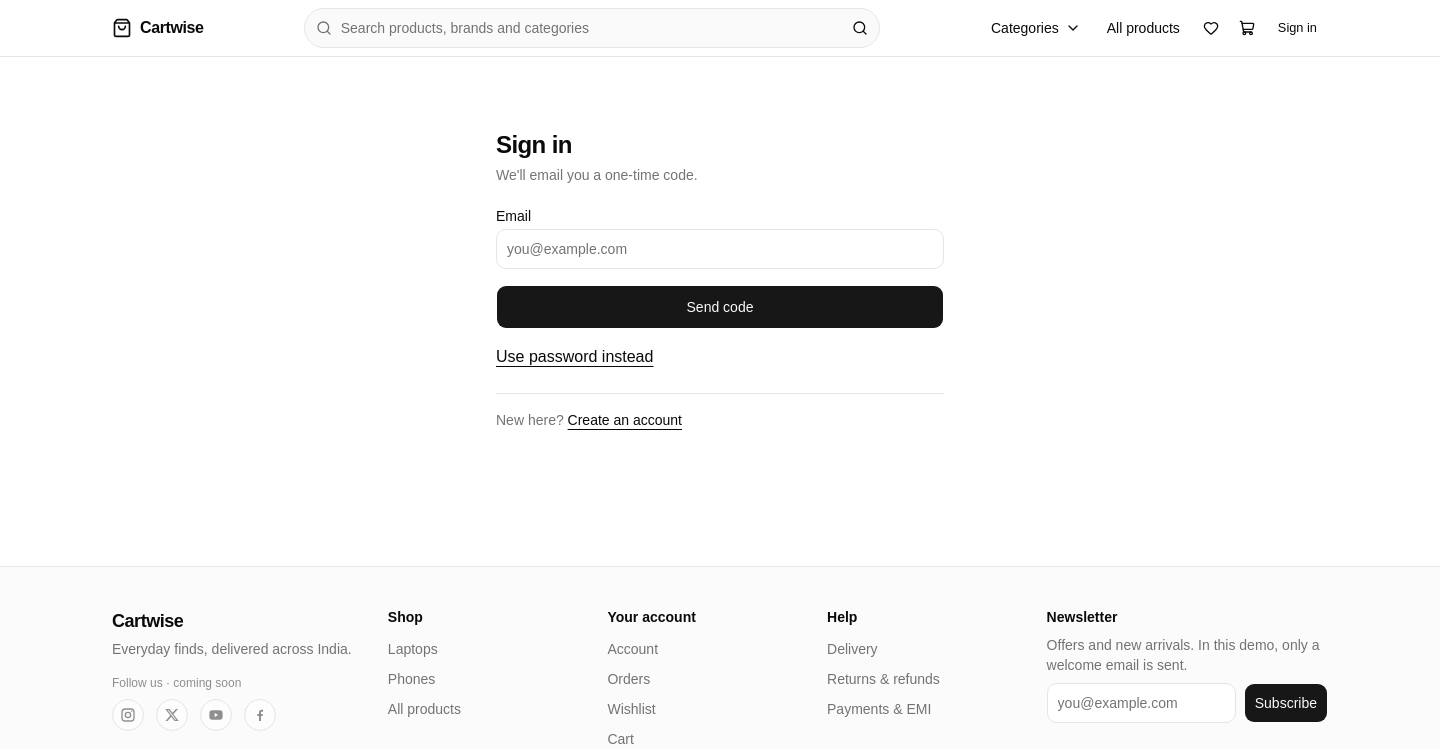
it: sign-in › checks the email before sending a code
The width and height of the screenshot is (1440, 749).
Type "98765 43210" into the field labelled "Email".
click(720, 249); type("98765 43210")  # box [496,229,944,269]
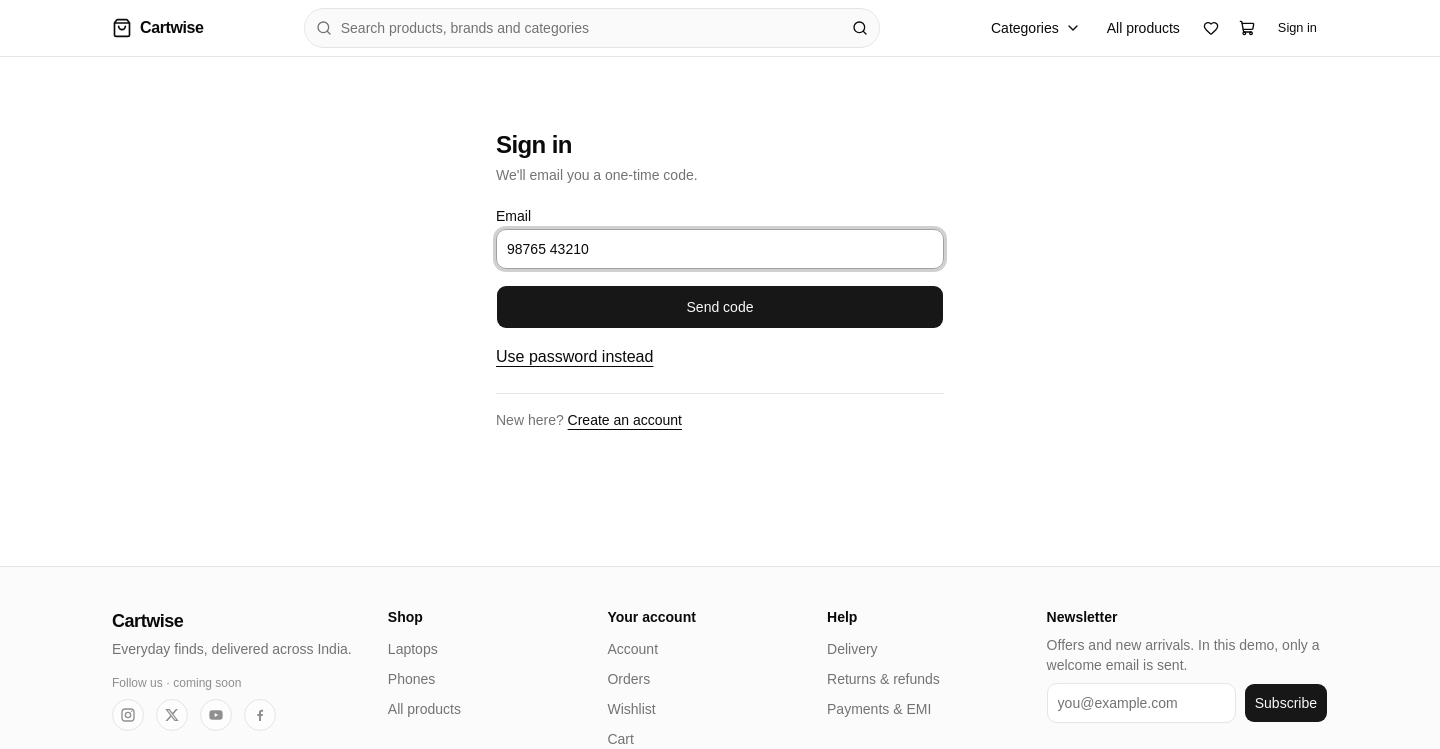
Click the button "Send code".
click(720, 307)  # box [496,285,944,329]
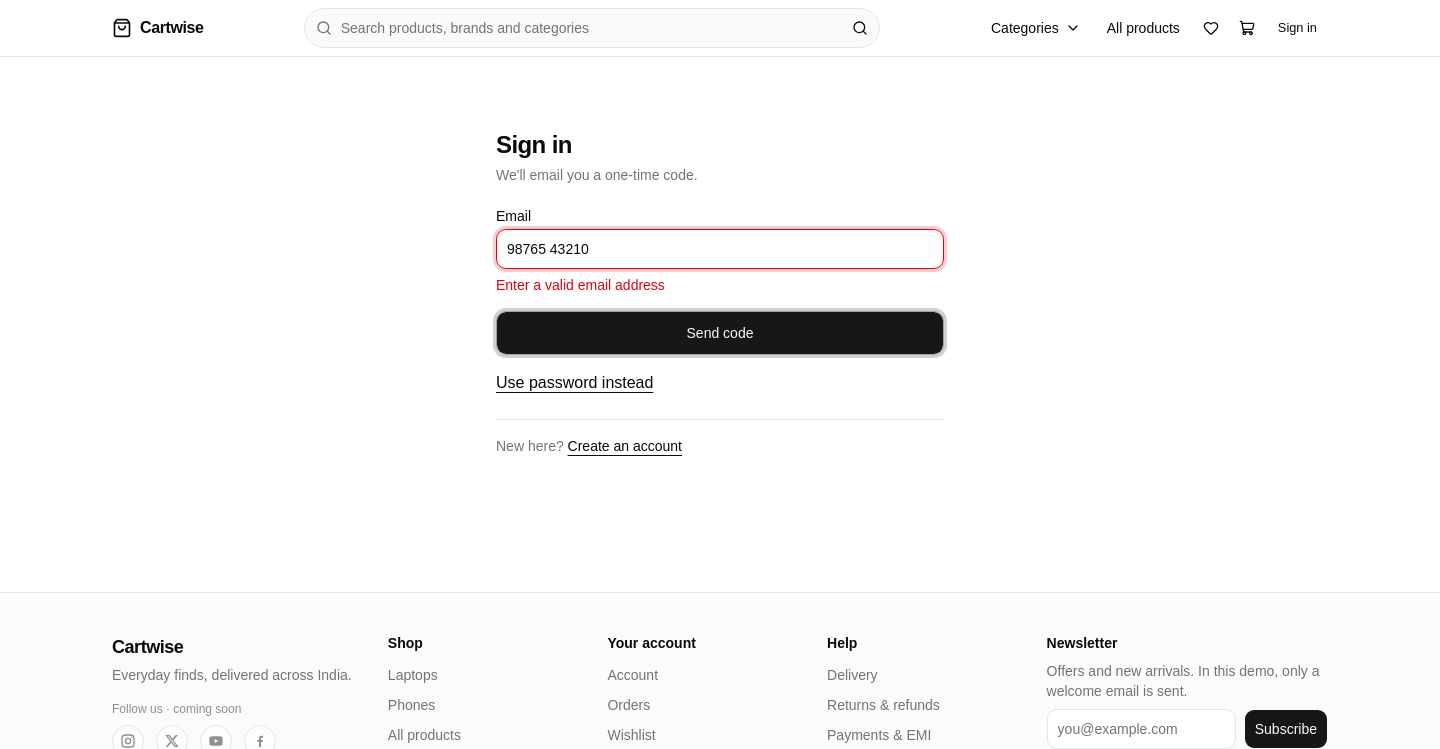
Expected: the text "Enter a valid email address" is shown, [496,277,665,293]
